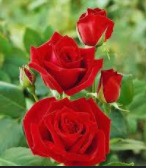RedRose: (20, 94, 114, 168), (30, 31, 102, 96)
